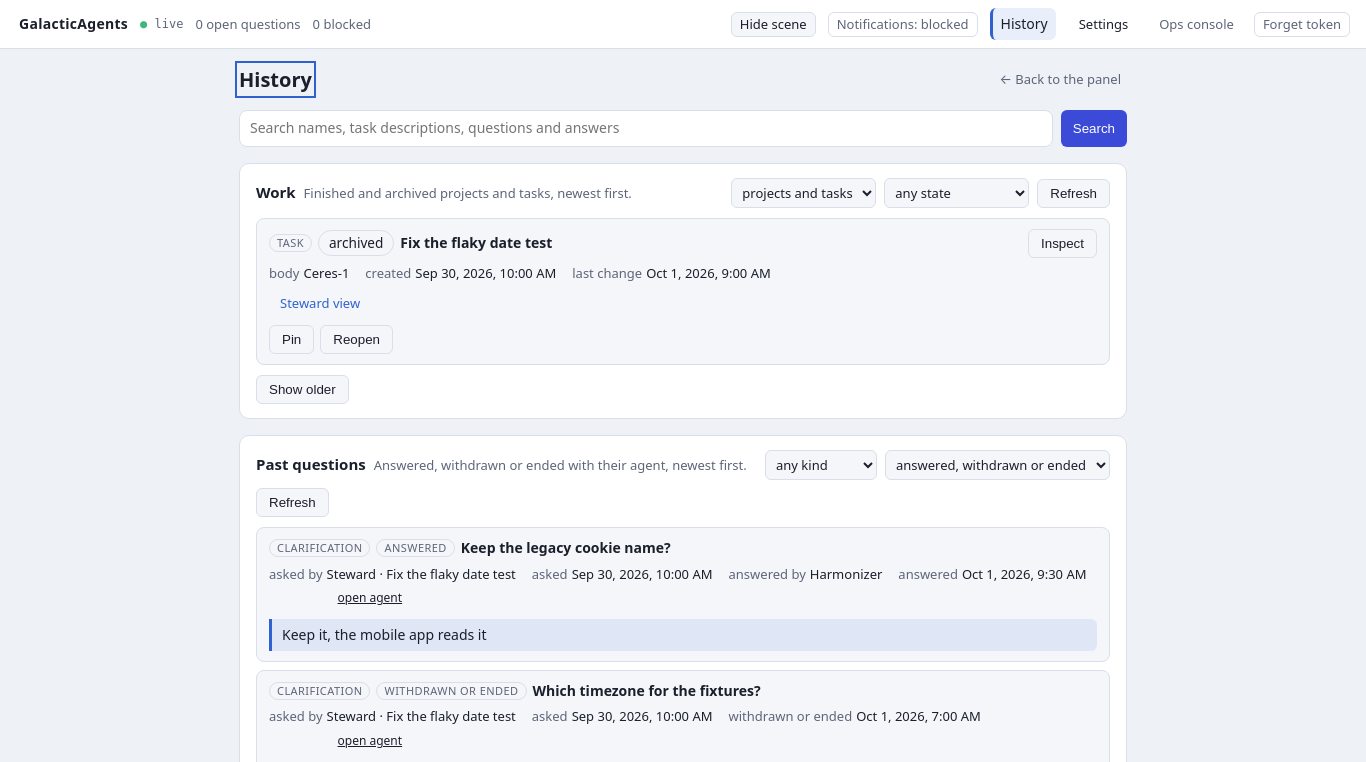
Scenario: history view (P25-10) › filters past questions to the withdrawn ones, with the reason
Expected: the list item "Keep the legacy cookie name?" is shown, [256, 527, 1110, 662]
Select "withdrawn or ended" in the dropdown named "Question status": (998, 465) [885, 450, 1110, 480]
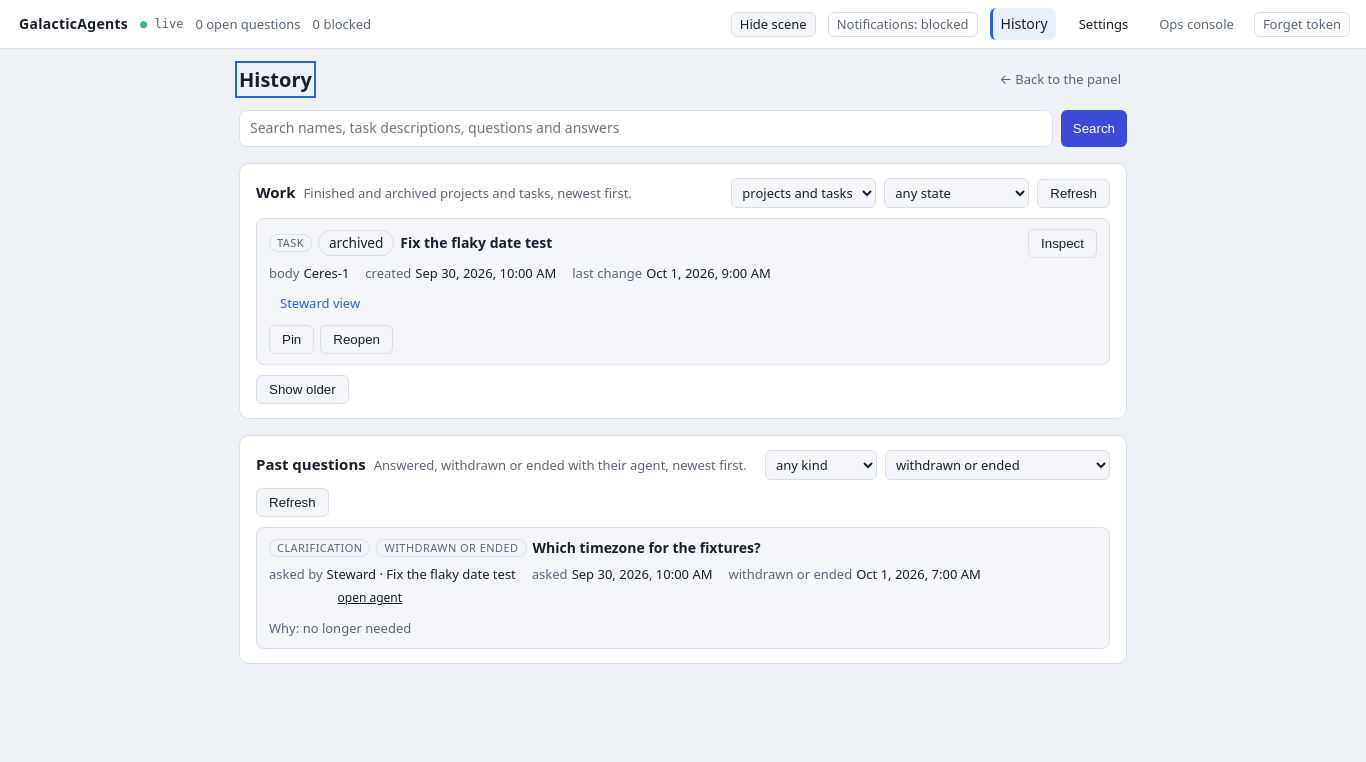
Expected: the text "withdrawn or ended" next to "Which timezone for the fixtures?" is shown, [384, 540, 518, 556]
Now the text "Keep the legacy cookie name?" is gone
